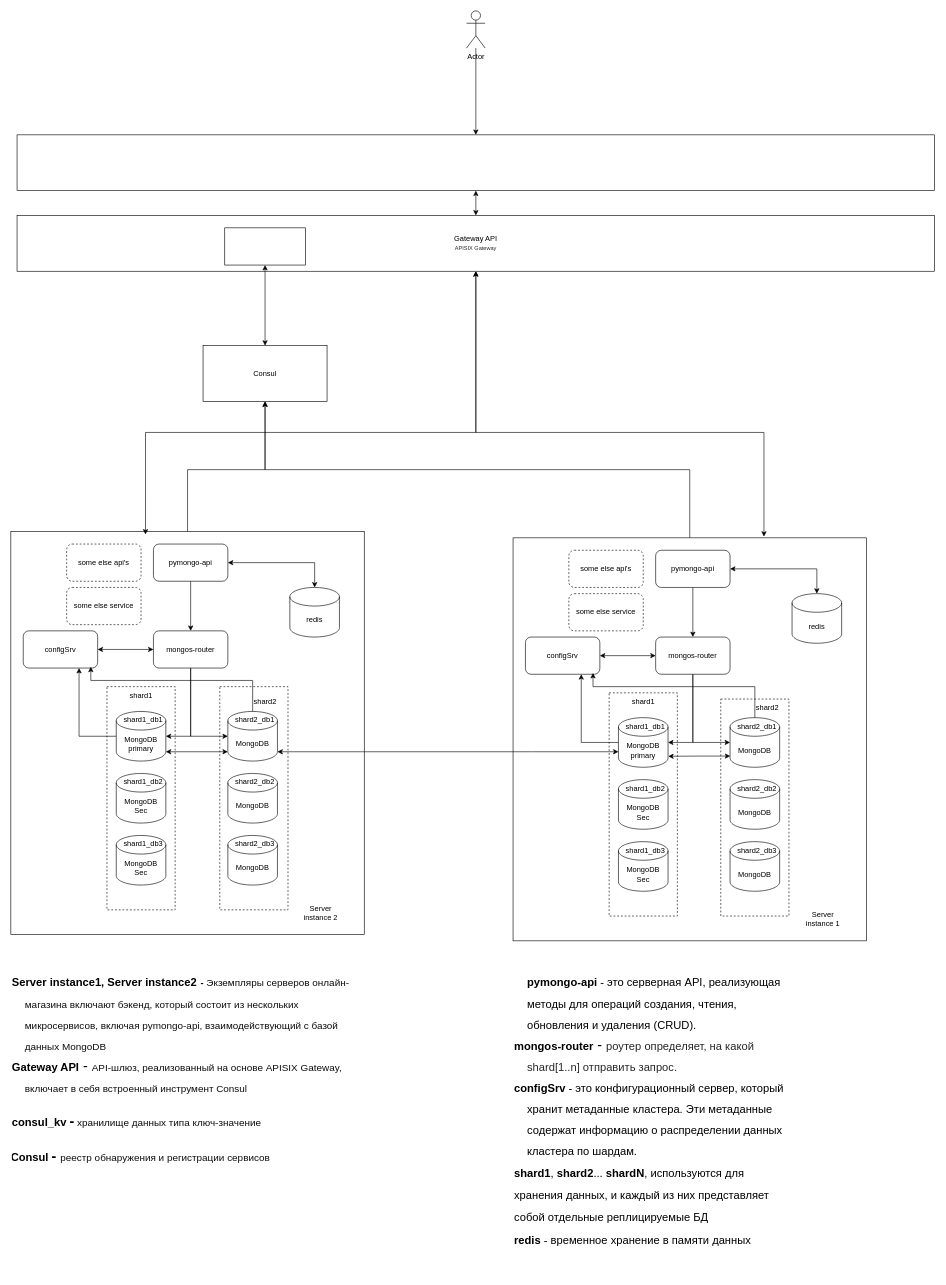
The diagram is 946 pixels wide and 1285 high, and some of its shapes have lost their labels. Each missing label, with the centre of its shape:
consul_kv: (264,246)
FrontEnd: (475,162)
